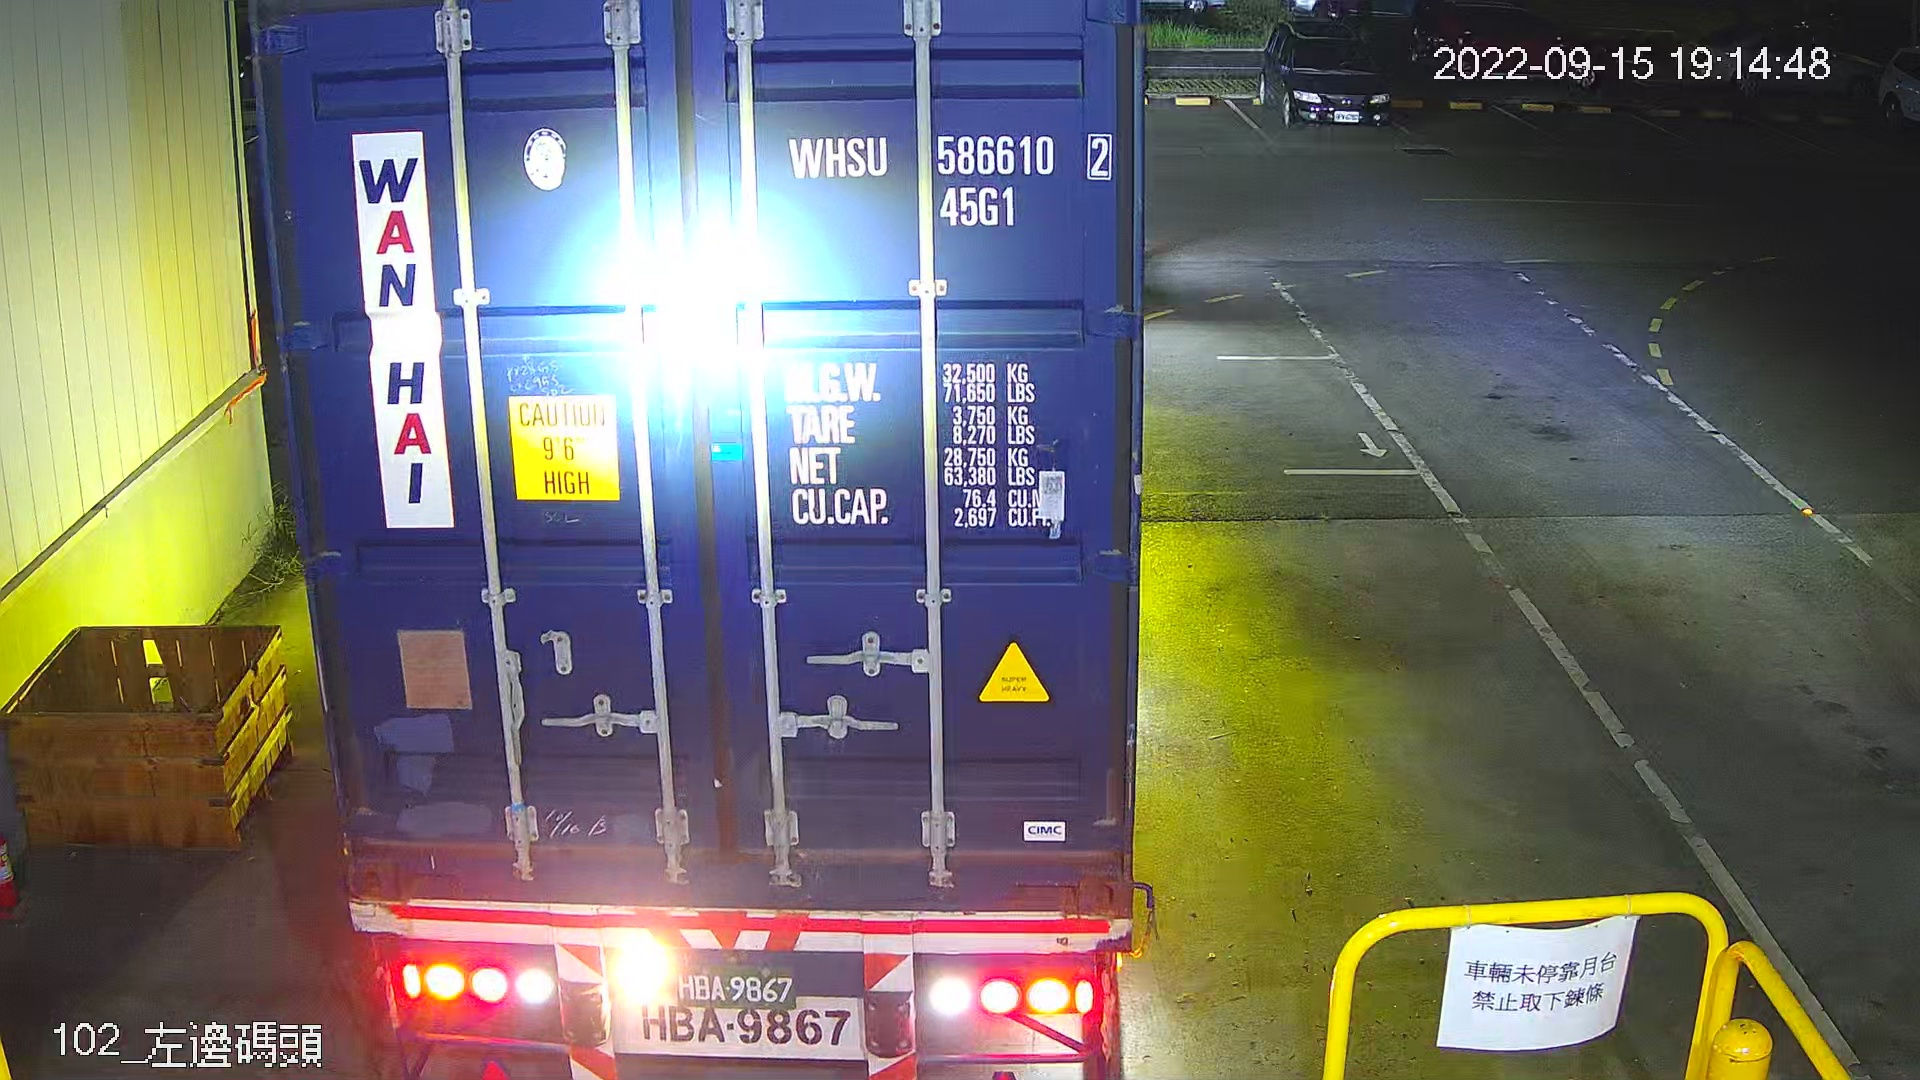container: (773, 119, 1125, 239)
